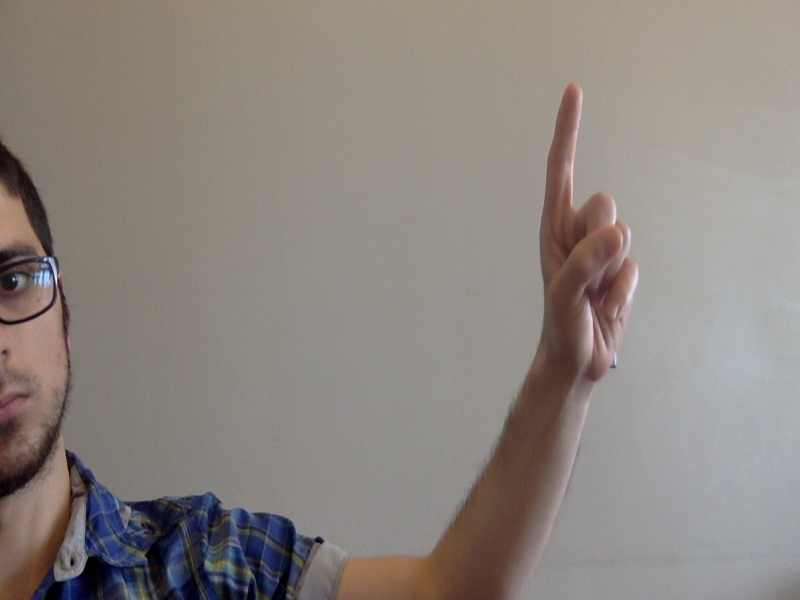1-hand: (538, 76, 639, 381)
